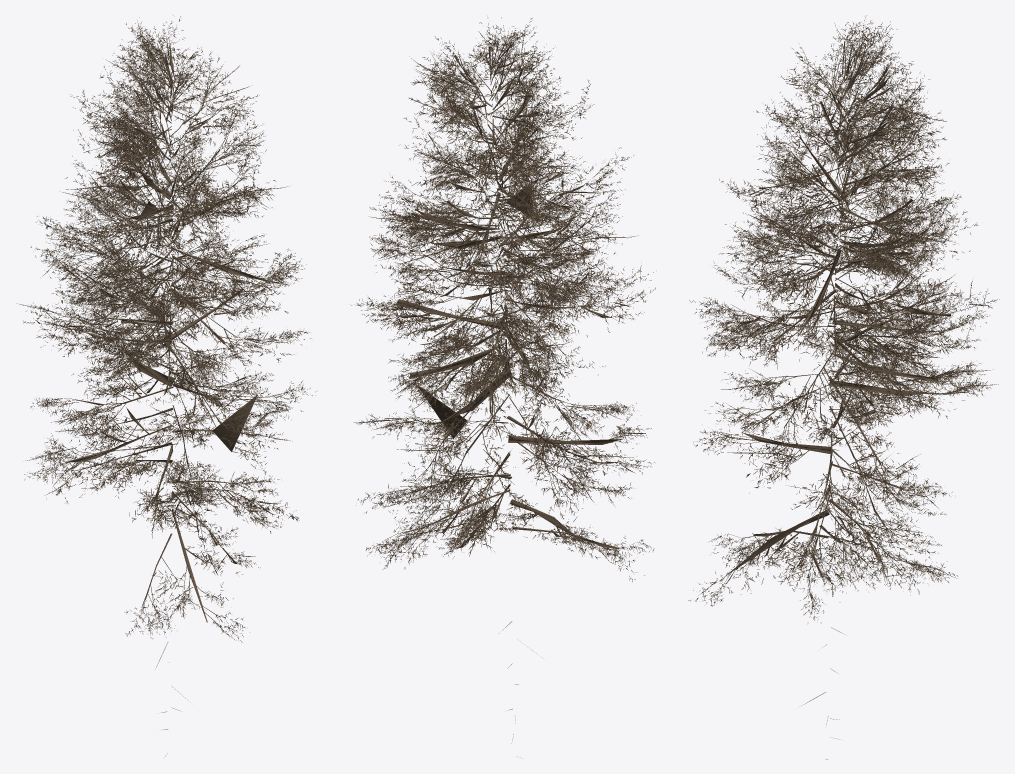
The model's file is fir_tree_01.fbx.
3 renders of one model, left to right at view 1: azimuth 30°, elevation 25°; view 2: azimuth 150°, elevation 25°; view 3: azimuth 270°, elevation 25°, orthographic. The views are drawn at different scales.
Visible parts, largest first — view 1: fir_tree_01_a_LOD0; view 2: fir_tree_01_a_LOD0; view 3: fir_tree_01_a_LOD0.
Part boxes in pixels (bbox=[...]): fir_tree_01_a_LOD0: bbox=[19, 15, 315, 756]; fir_tree_01_a_LOD0: bbox=[351, 17, 655, 758]; fir_tree_01_a_LOD0: bbox=[688, 17, 999, 759].
Size of the model in its own units: 6.69 by 16.62 by 6.38.
